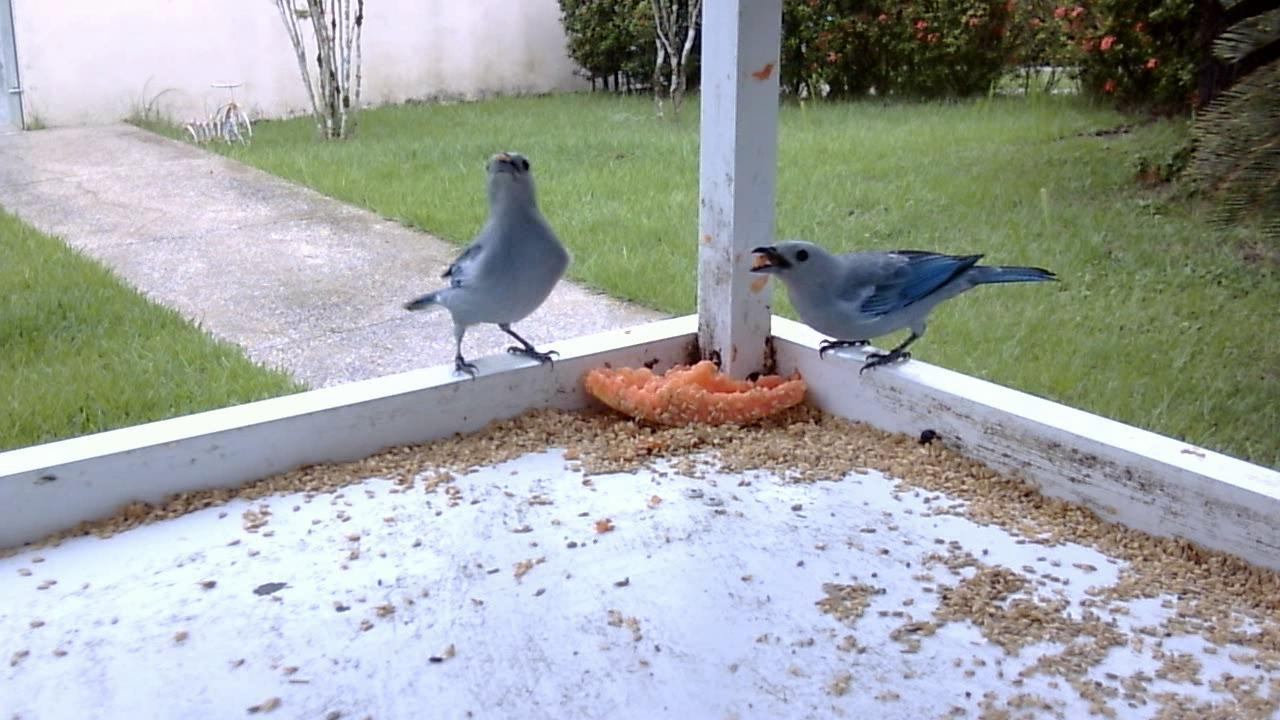sanhaco_da_amazonia: (745, 230, 1043, 381), (392, 155, 578, 389)
